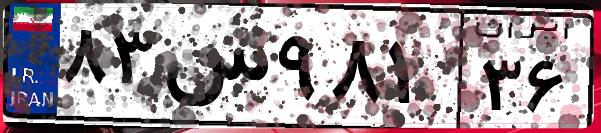1: (385, 28, 445, 110)
3: (475, 38, 525, 113), (110, 28, 158, 98)
6: (525, 38, 570, 115)
8: (330, 28, 385, 110), (57, 26, 110, 100)
9: (270, 28, 330, 110)
س: (158, 20, 270, 120)
